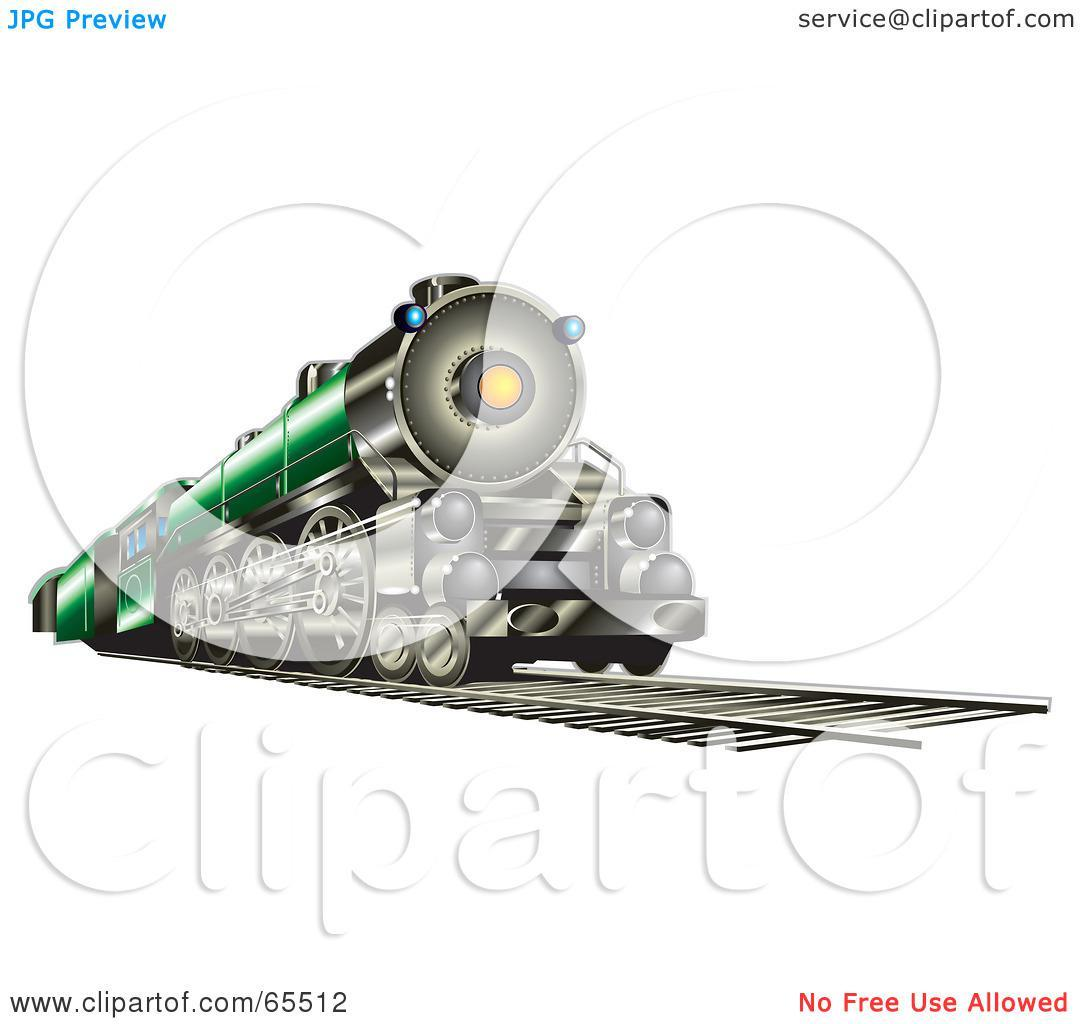train: (26, 266, 721, 694)
